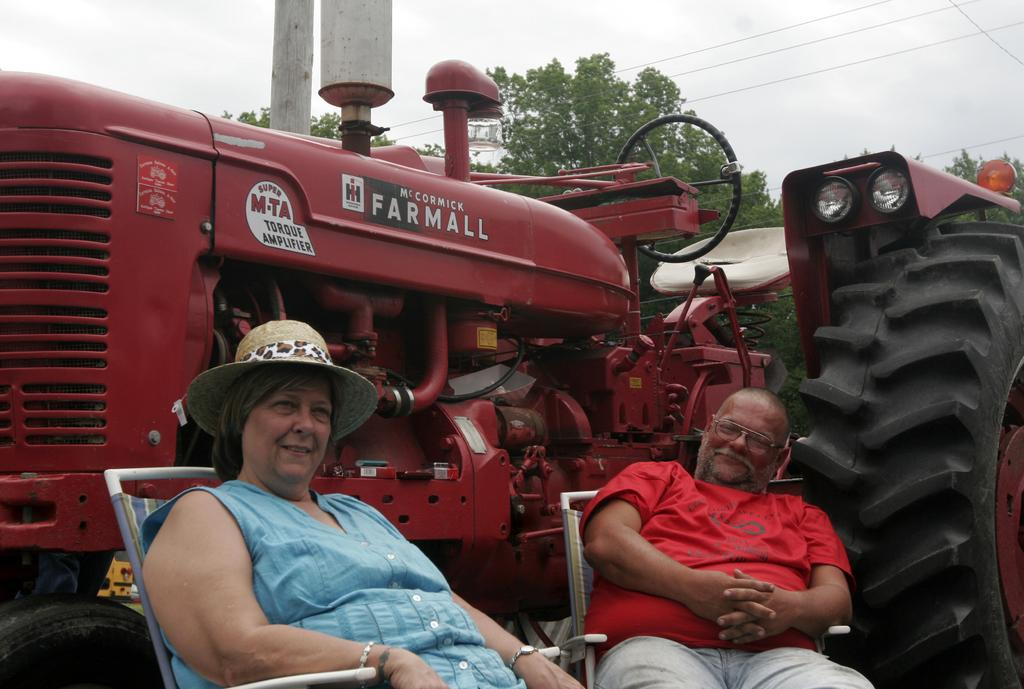Hat: (186, 322, 372, 439)
